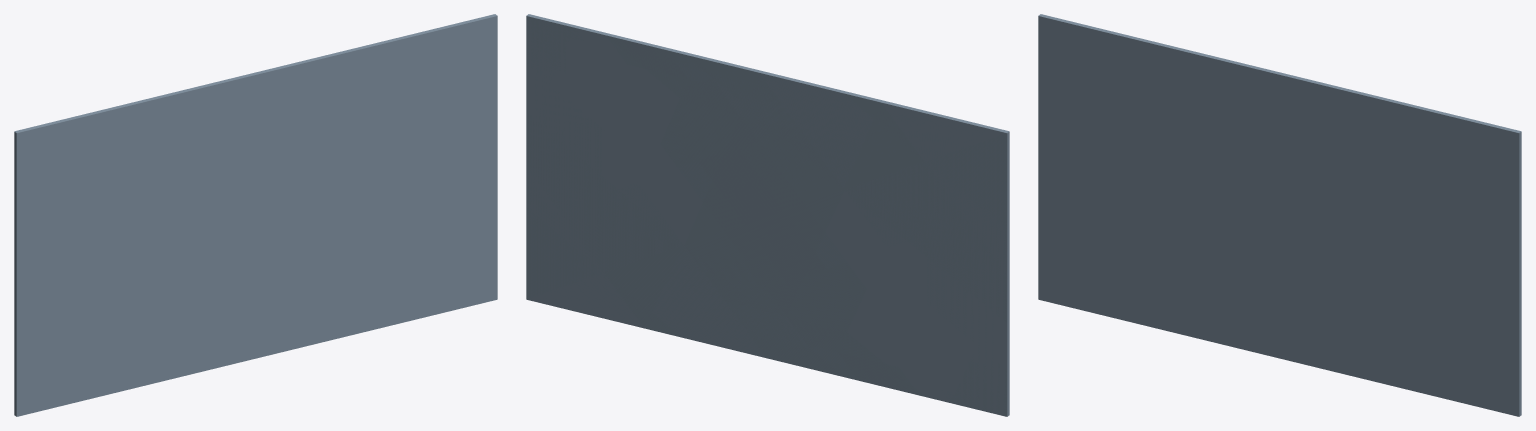
File: bakingsheet.obj
3 views of the same model, side by side, from view 1: azimuth 30°, elevation 25°; view 2: azimuth 150°, elevation 25°; view 3: azimuth 330°, elevation 25° (orthographic).
Visible parts, largest first — view 1: bakingPaper1.001_BakingTray.000; view 2: bakingPaper1.001_BakingTray.000; view 3: bakingPaper1.001_BakingTray.000.
Part boxes in pixels (<box>): bakingPaper1.001_BakingTray.000: <box>14,14,497,416</box>; bakingPaper1.001_BakingTray.000: <box>526,14,1009,416</box>; bakingPaper1.001_BakingTray.000: <box>1038,14,1521,416</box>.
Bounding box in the file's own units: 0.3755 × 0.2116 × 0.00352.
